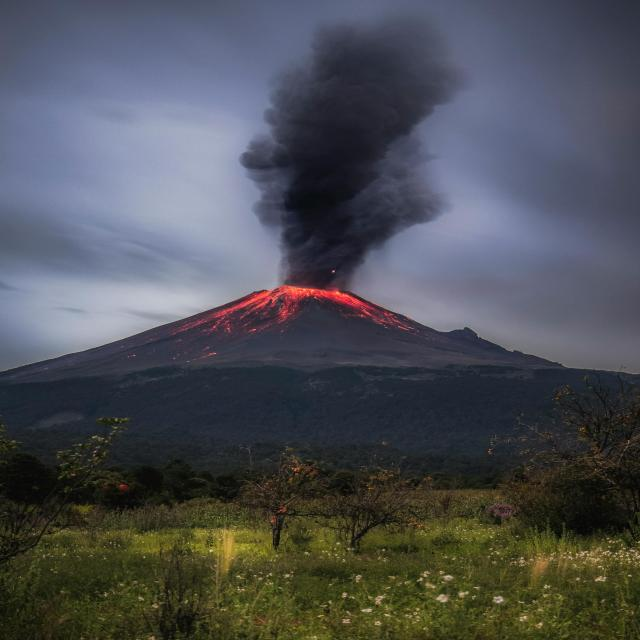smoke: (234, 13, 478, 291)
